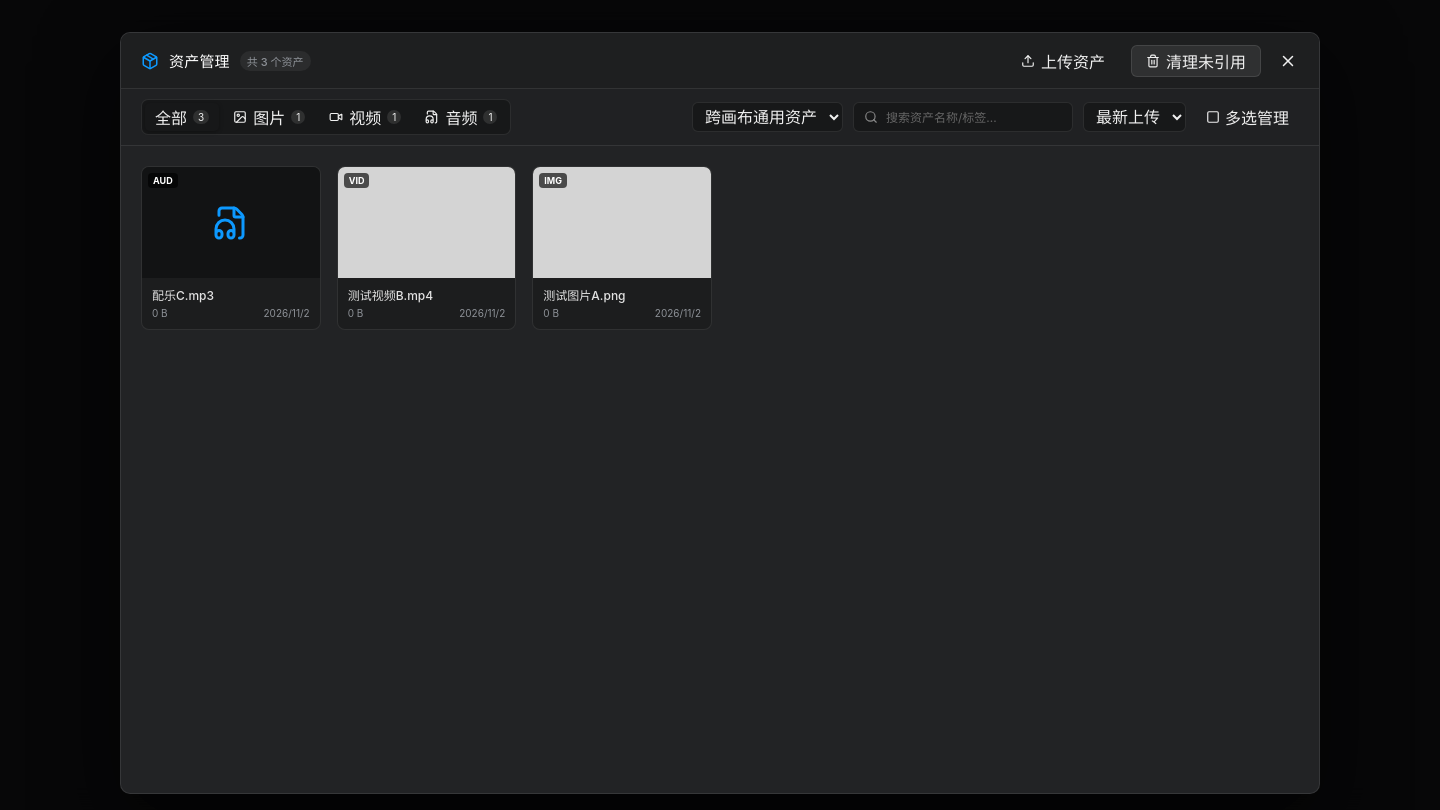
Scenario: AssetManagerModal › filters assets by media type tabs and search query
This screenshot has width=1440, height=810.
Expected: the heading "测试图片A.png" is shown, [543, 288, 626, 303]
Expected: the heading "测试视频B.mp4" is shown, [348, 288, 433, 303]
Filter to Videos only
Click the button "视频 1" at (365, 117), box [319, 103, 411, 131]
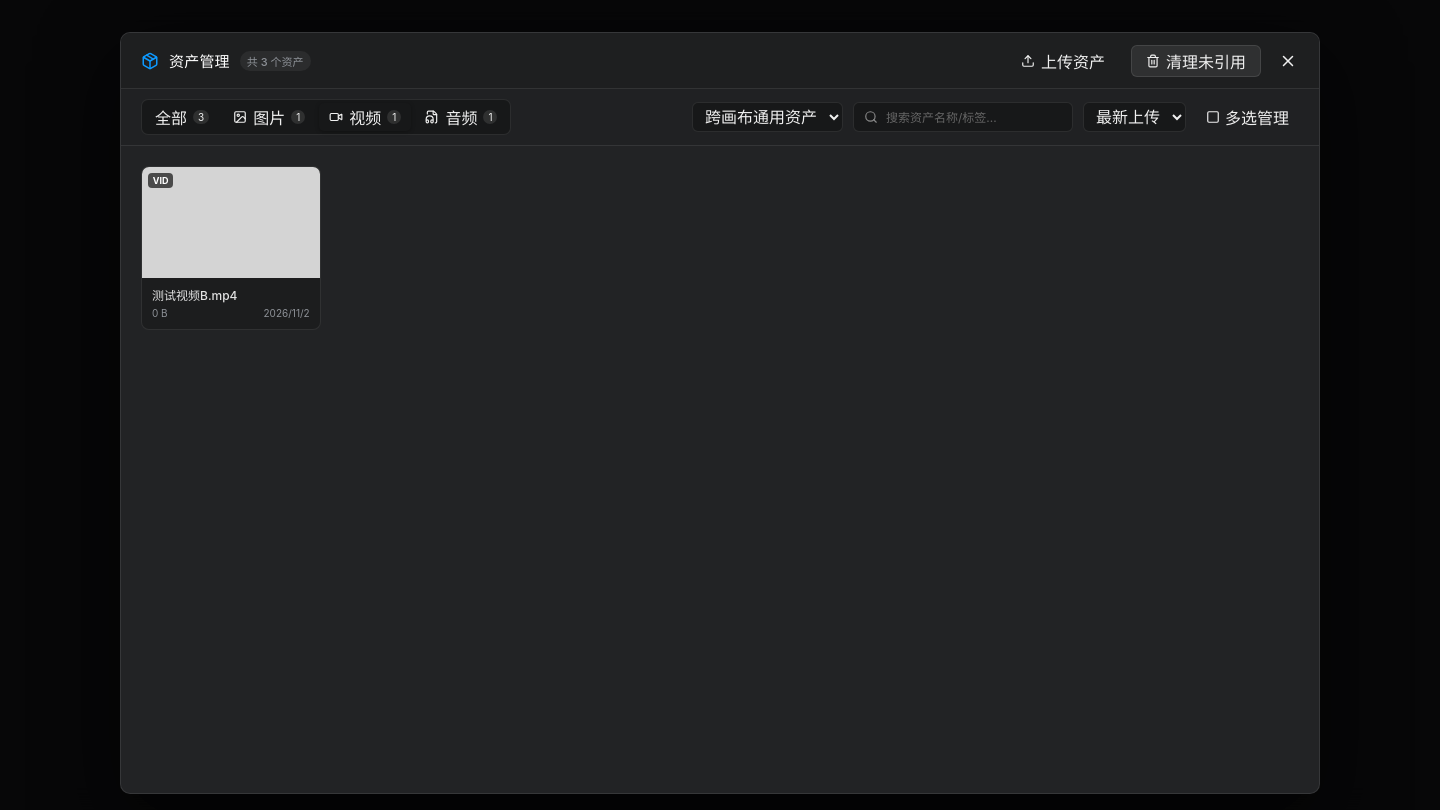
Expected: the heading "测试视频B.mp4" is shown, [152, 288, 238, 303]
Result: the heading "测试图片A.png" is gone
Switch back to All and search
Click the button "全部 3" at (182, 117), box [145, 103, 219, 131]
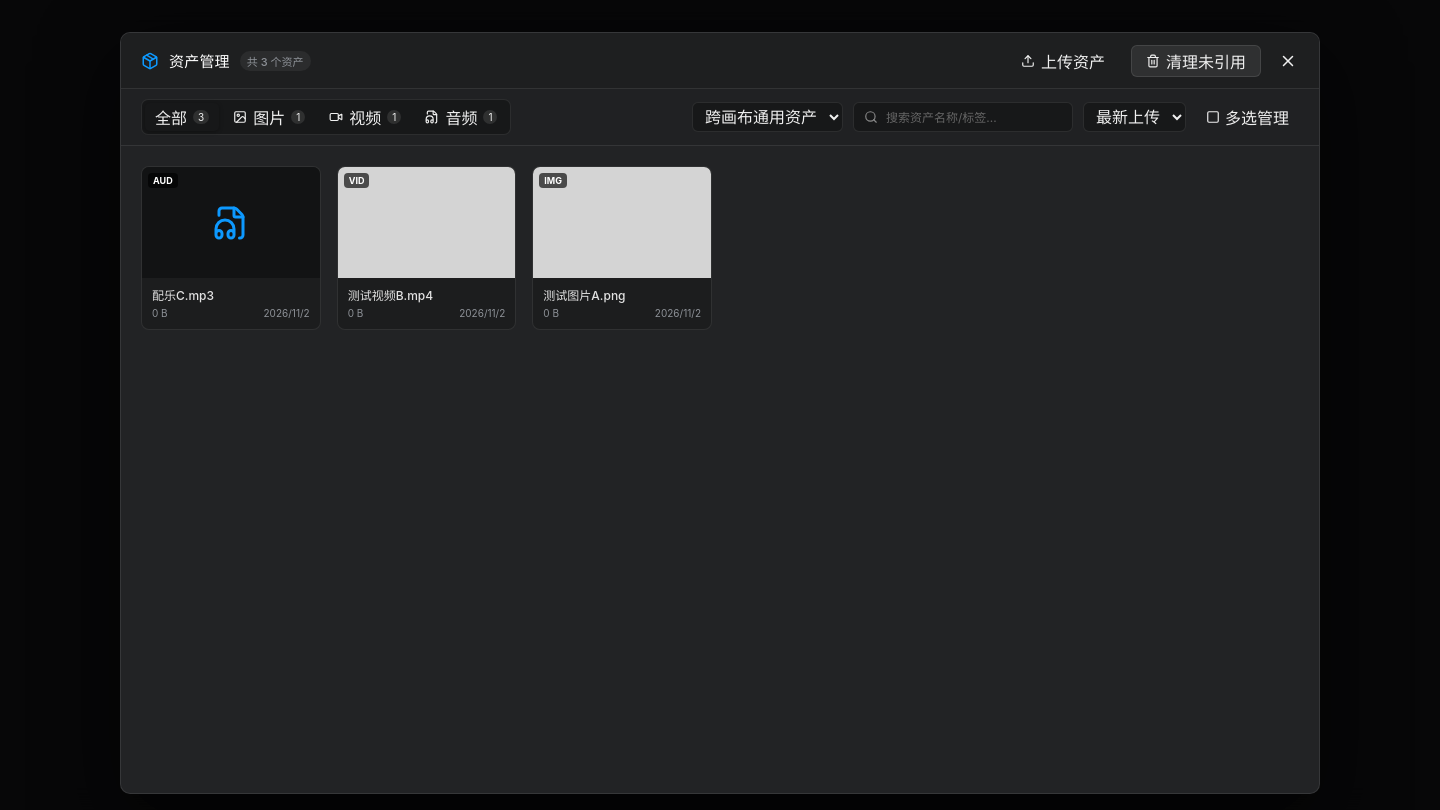
Type "配乐" into the search field labelled "搜索资产" at (973, 117), box [884, 108, 1062, 126]
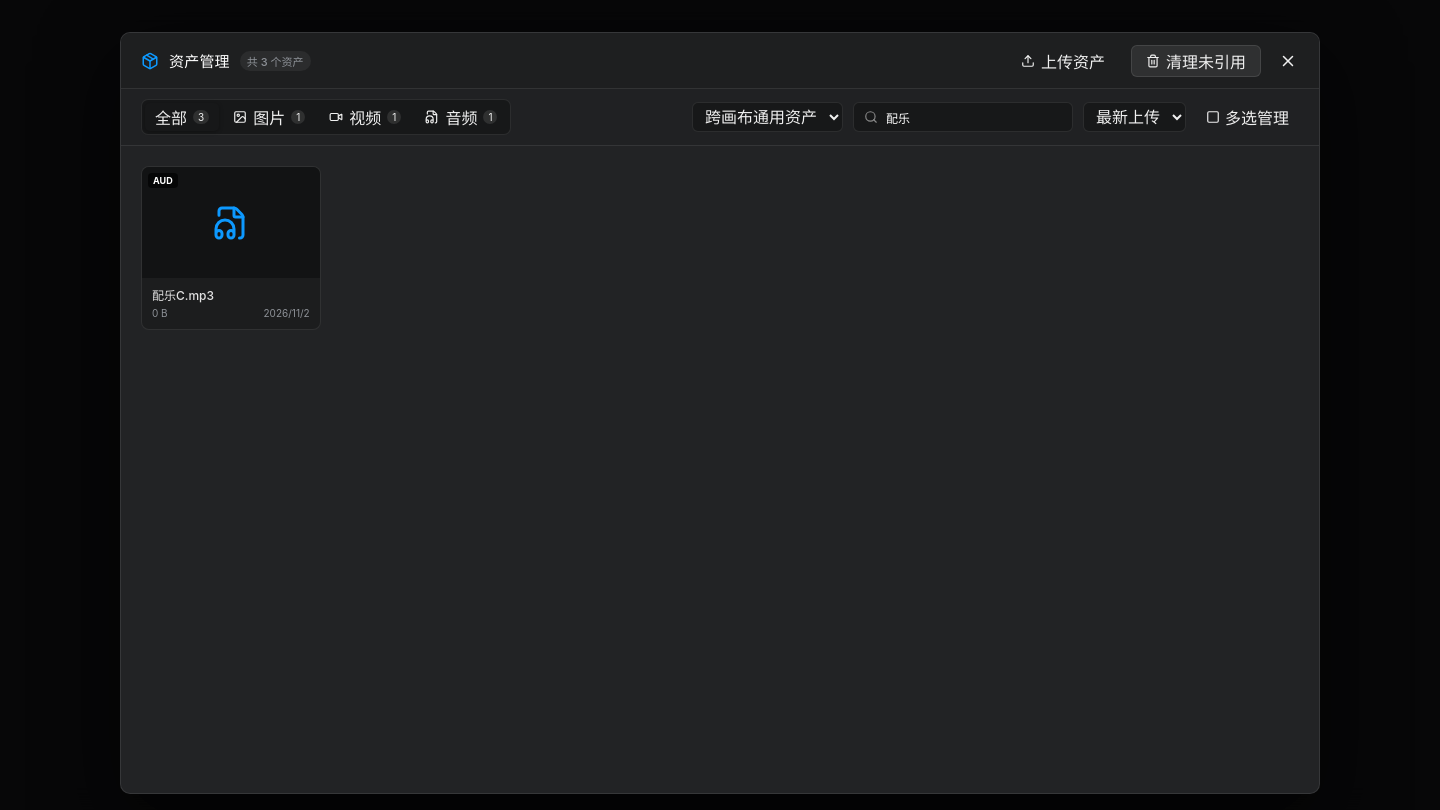
Result: the heading "配乐C.mp3" is shown at [152, 288, 214, 303]
Result: the heading "测试图片A.png" is gone
